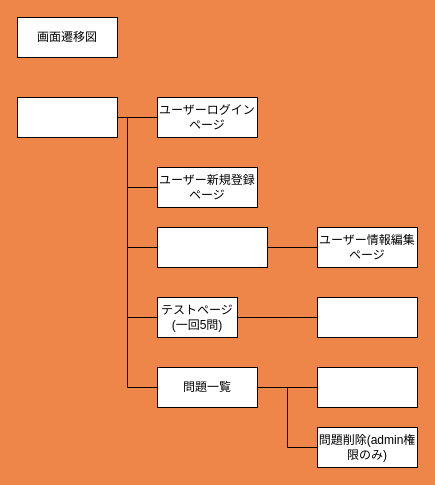
This 435x485 diagram has some shape labels left out. Here are the shapes that lost their labels. From the top down, the box of each, then its label:
(16, 96, 118, 138): トップページ
(156, 226, 268, 268): ユーザーマイページ
(316, 296, 418, 338): テスト結果ページ
(316, 366, 418, 408): 問題作成(admin権限のみ)
